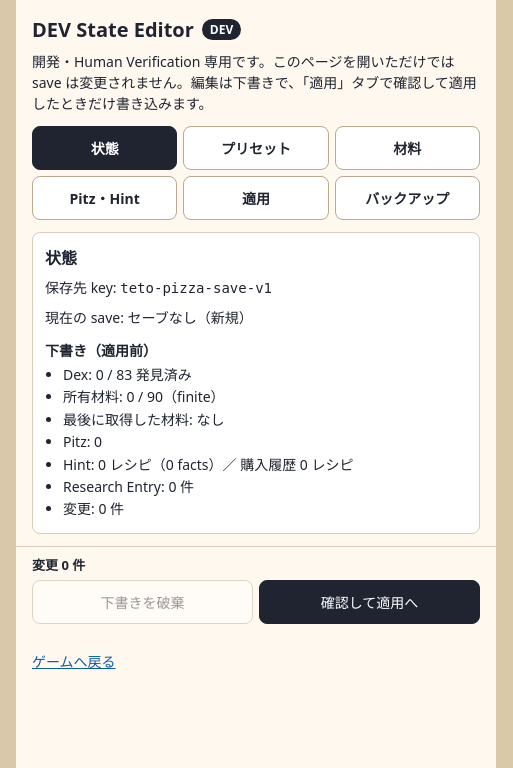
Test: review and the explicit apply › with no change there is nothing to apply
Step 1. Click the tab "適用" → point(256, 198), box [183,176,329,220]
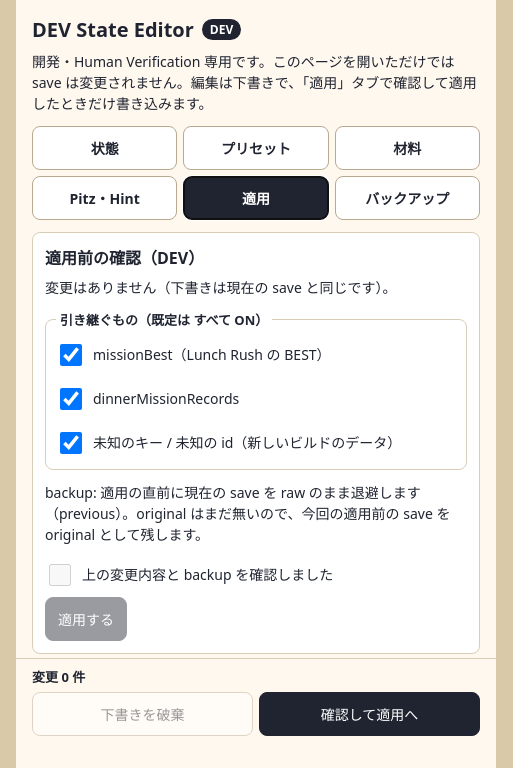
Expected: the text "変更はありません（下書きは現在の save と同じです）。" is shown, [45,278,396,297]
Expected: the button "適用する" is disabled, [45,597,127,641]
